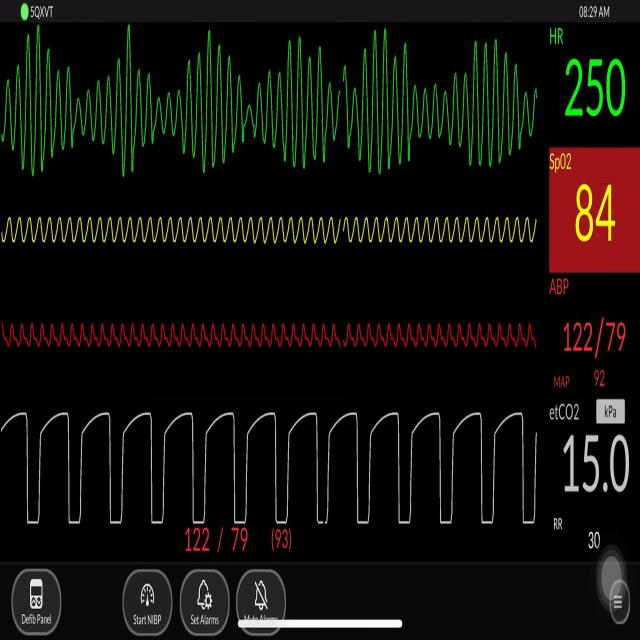danger: (10, 36, 540, 198)
